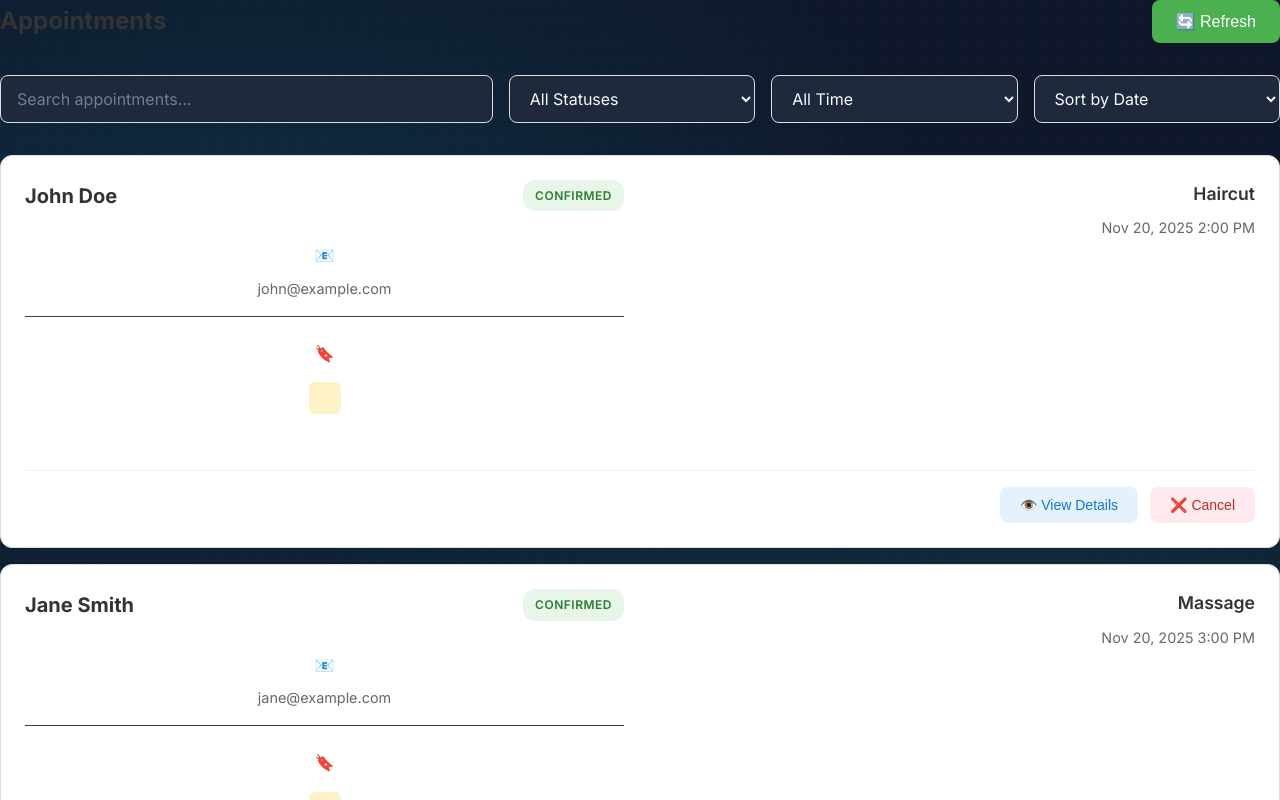
AppointmentList Component - TDD › Filters and Search › should filter appointments by search term
Expected: the heading "John Doe" is shown, [25,184,117,208]
Expected: the heading "Jane Smith" is shown, [25,593,134,617]
Search for "john"
In the field with placeholder "Search appointments...": (246, 99) [0,75,493,123], type "john"
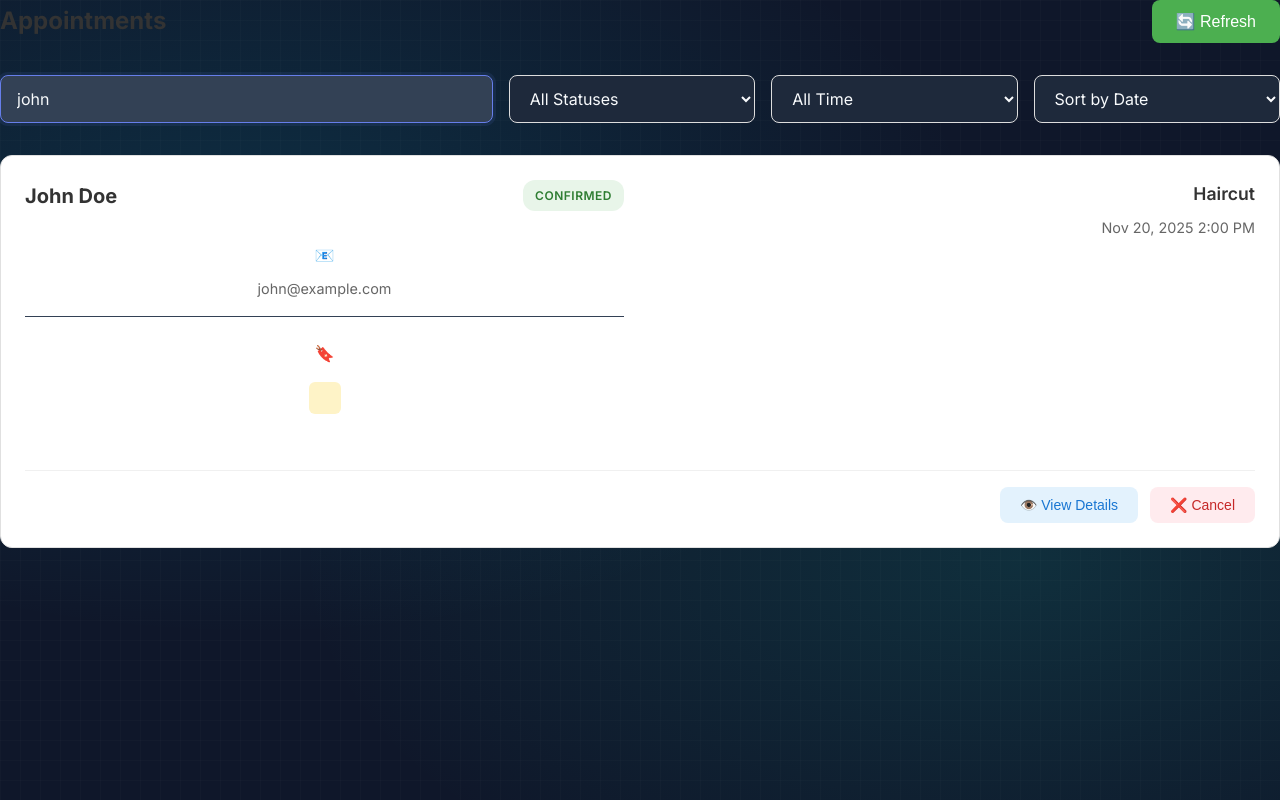
Expected: the heading "John Doe" is shown, [25,184,117,208]
Expected: the heading "Jane Smith" is gone
